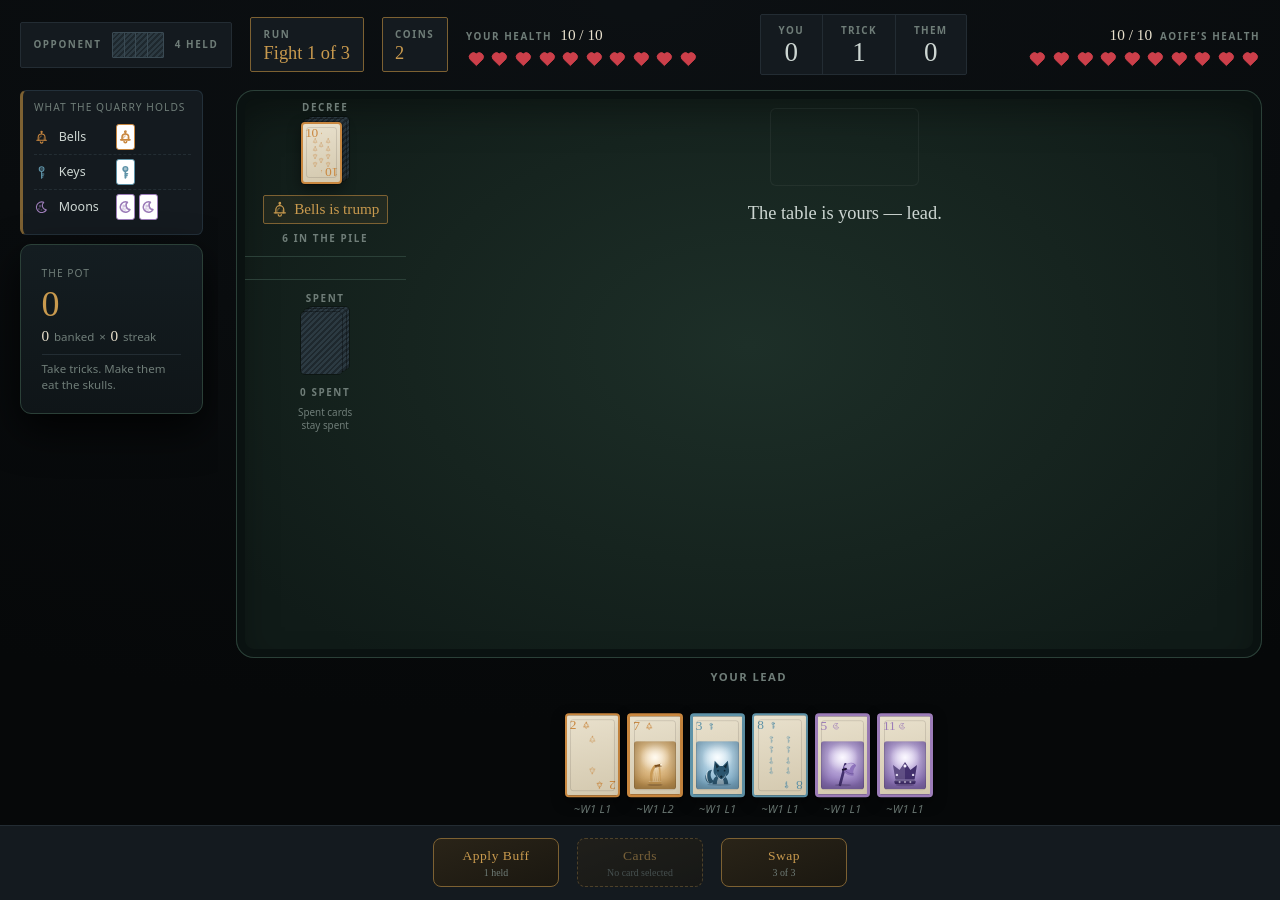
WarCouncilRound — the action bar (DLR-114) › tapping a hand card once enables Cards; clicking it plays the card
The image size is (1280, 900).
Click the button named "7 of Bells" at {"x": 655, "y": 755}, box [627, 713, 683, 797]
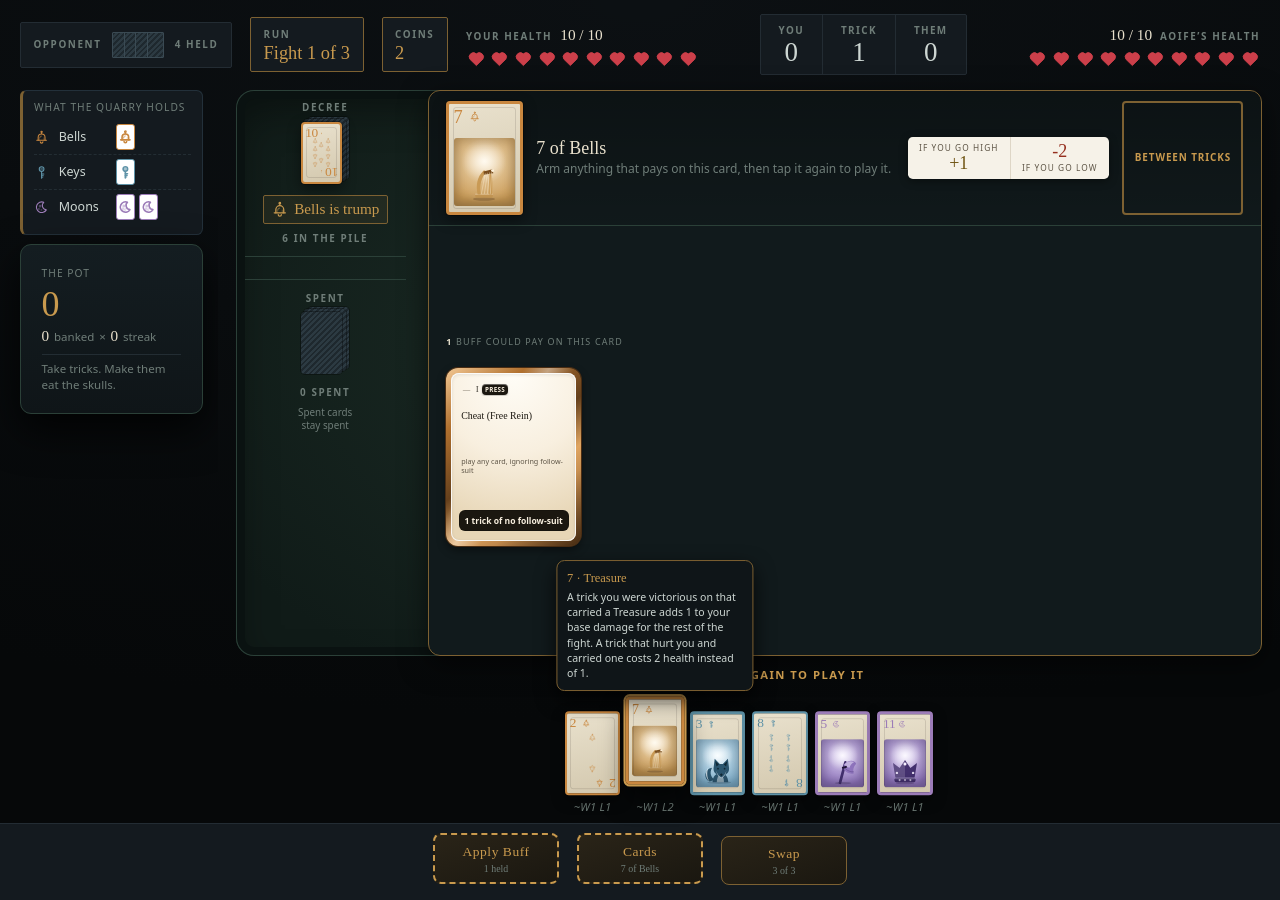
Expected: the button with aria-label "play the 7 of bells" is enabled
Click the button with aria-label "play the 7 of bells" at {"x": 640, "y": 859}, box [577, 833, 703, 884]
Wait 800 ms
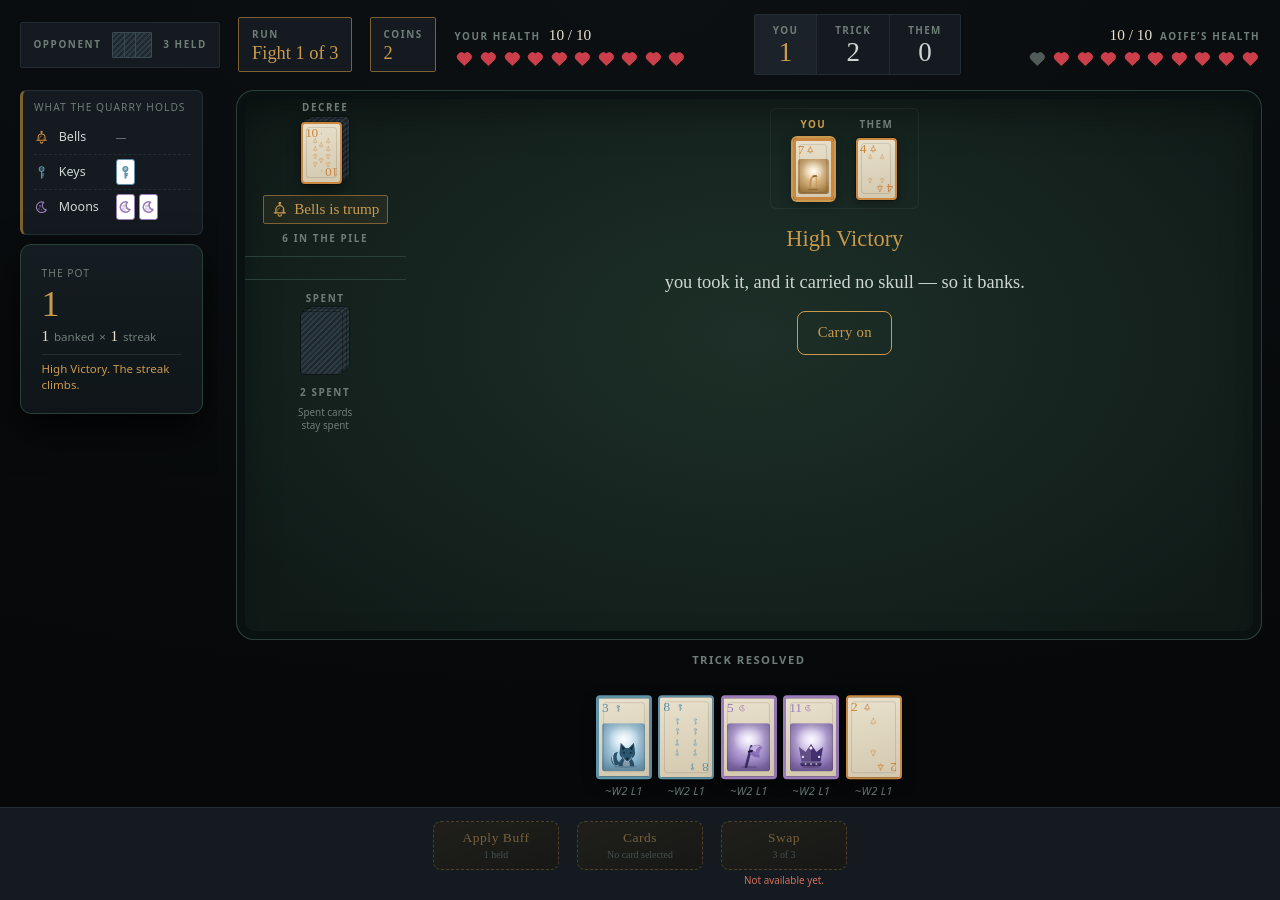
Expected: the text "you took it, and it carried no skull — so it banks." is shown, [665, 270, 1025, 297]
